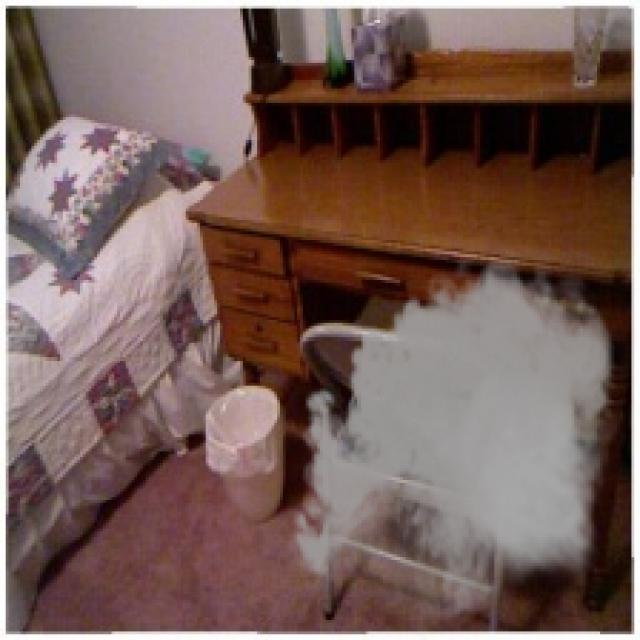Smoke: (282, 245, 628, 638)
